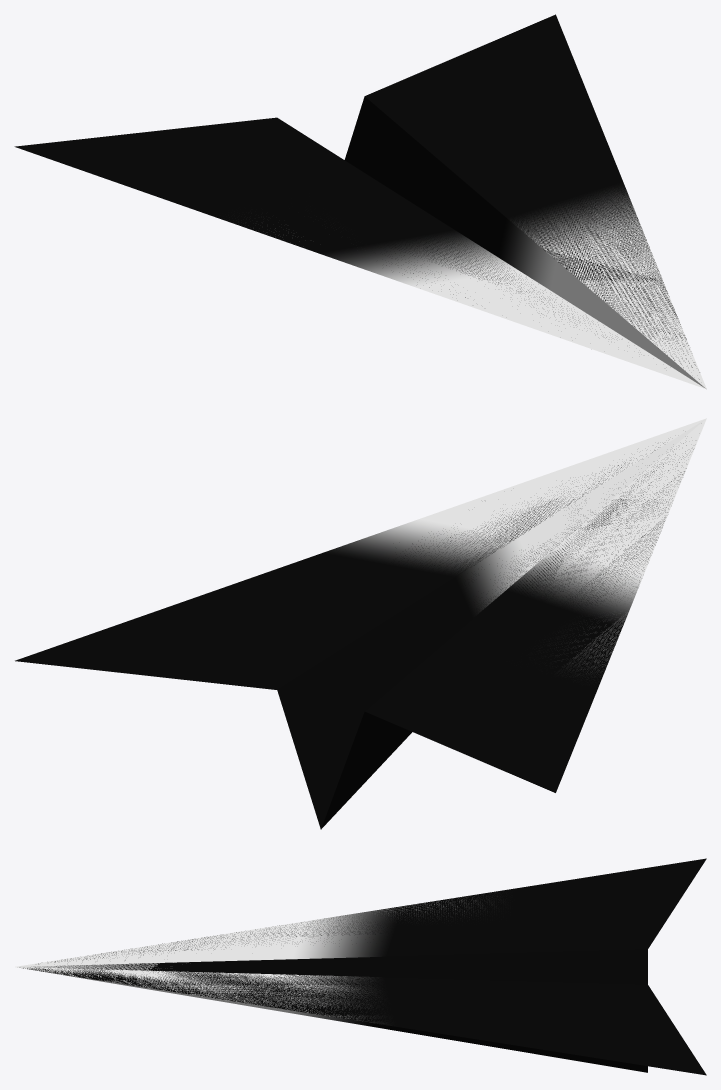
The model's file is paperplane.FBX.
3 views of the same model, one above another, from view 1: azimuth 30°, elevation 25°; view 2: azimuth 150°, elevation 25°; view 3: azimuth 270°, elevation 25° (orthographic). The views are drawn at different scales.
Parts seen in each view (by area): view 1: PaperPlane; view 2: PaperPlane; view 3: PaperPlane.
Boxes of the visible parts, x1=… form: PaperPlane: x1=14, y1=14, x2=706, y2=389; PaperPlane: x1=15, y1=418, x2=706, y2=829; PaperPlane: x1=15, y1=858, x2=706, y2=1075.
Size of the model in its own units: 0.1912 by 0.0435 by 0.2579.
1 material, 1 textured.
